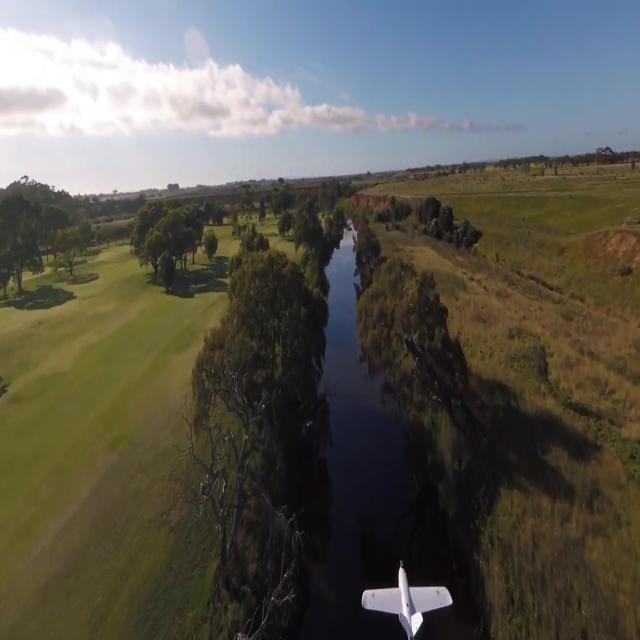iha: (393, 588, 422, 608)
